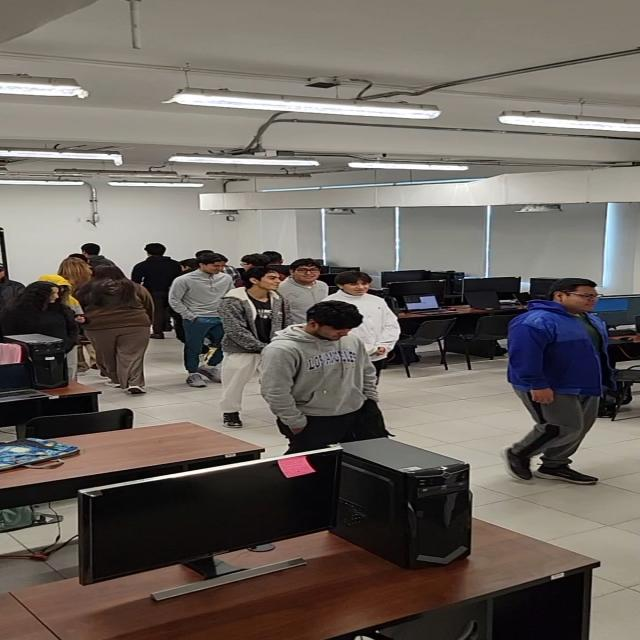Persona: (270, 303, 407, 453), (521, 279, 620, 472), (85, 264, 151, 385), (175, 250, 233, 382), (223, 268, 285, 388), (331, 270, 405, 351), (11, 278, 78, 338), (284, 253, 326, 309)
